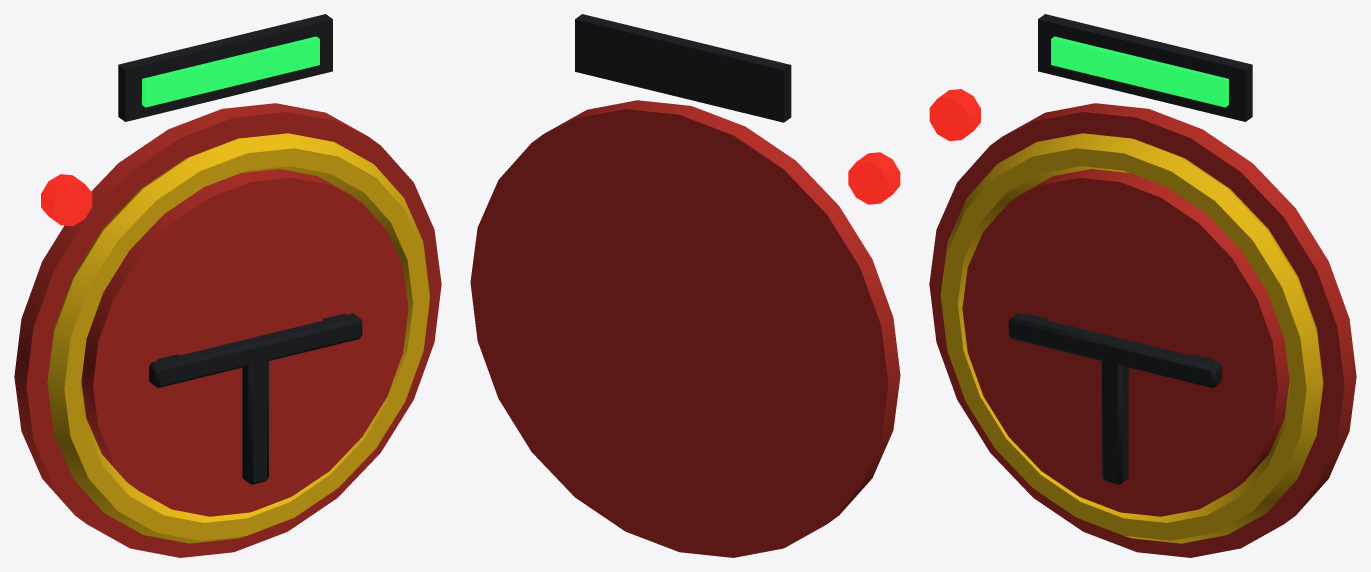
The model's file is hatch_emergency_red.glb.
3 views of the same model, side by side, from view 1: azimuth 30°, elevation 25°; view 2: azimuth 150°, elevation 25°; view 3: azimuth 330°, elevation 25° (orthographic).
Visible parts, largest first — view 1: hatch_emergency_red; view 2: hatch_emergency_red; view 3: hatch_emergency_red.
Boxes of the visible parts, <box> form: hatch_emergency_red: <box>14,14,441,557</box>; hatch_emergency_red: <box>470,14,900,557</box>; hatch_emergency_red: <box>929,14,1356,557</box>.
Bounding box in the file's own units: 1 × 1.16 × 0.16.
